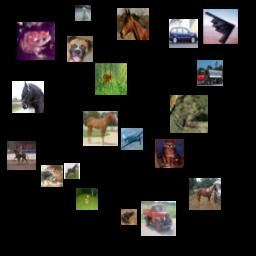airplane: (203, 9, 238, 44), (121, 128, 143, 150)
automobile: (169, 19, 198, 48)
bird: (41, 165, 63, 187)
cat: (155, 139, 184, 168)
deer: (95, 63, 127, 95)
dog: (67, 36, 93, 62), (76, 188, 98, 210), (75, 5, 91, 21)
frog: (170, 95, 208, 133), (17, 22, 55, 60), (121, 209, 137, 225)
truck: (141, 201, 176, 236), (197, 60, 223, 86)
